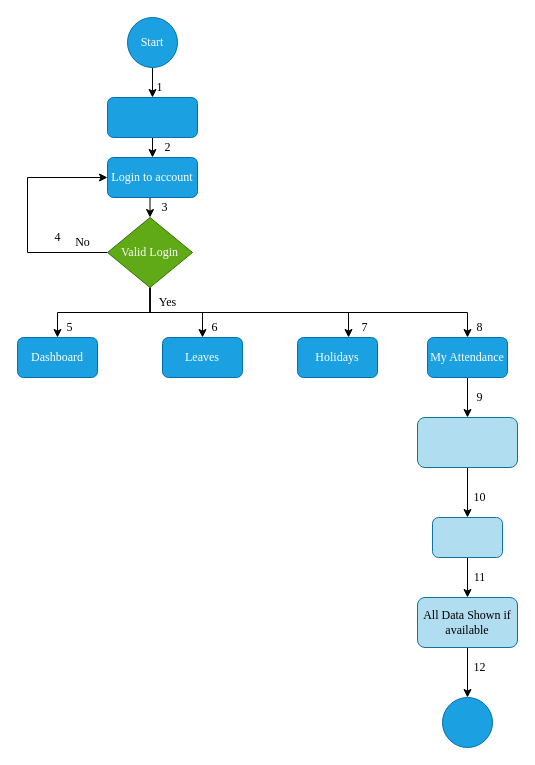
Image size: 535x765. Some labels were removed from this diagram. The box of each missing label's shape, as (x1, y1, x2, y2) in pixels:
End: (442, 696, 492, 748)
Open Cure MD Portal: (106, 96, 198, 138)
Select date range from drop down: (416, 416, 518, 468)
Submit: (432, 516, 502, 558)
